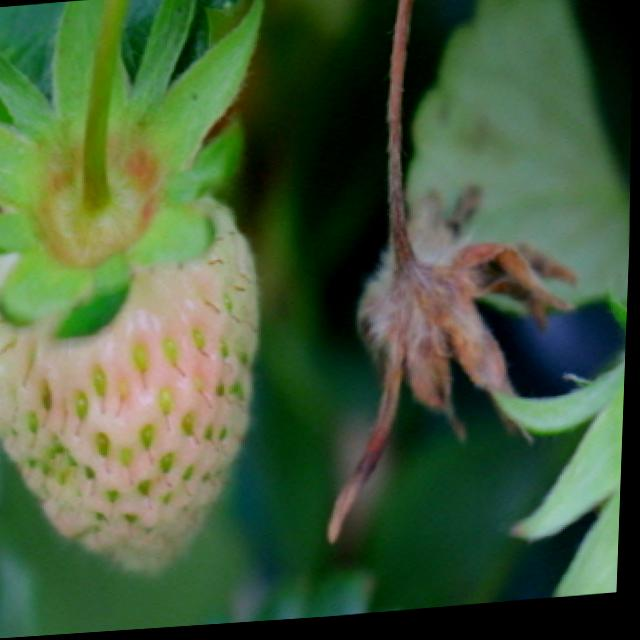Gray Mold: (328, 186, 584, 550)
